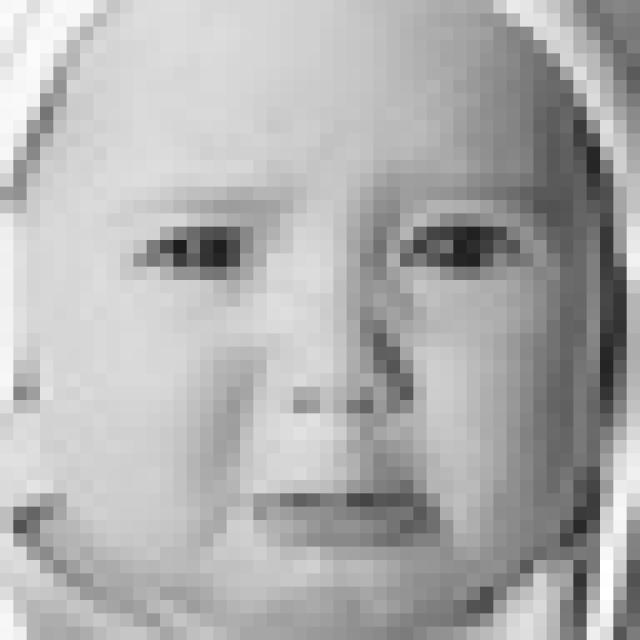sad: (107, 185, 563, 555)
